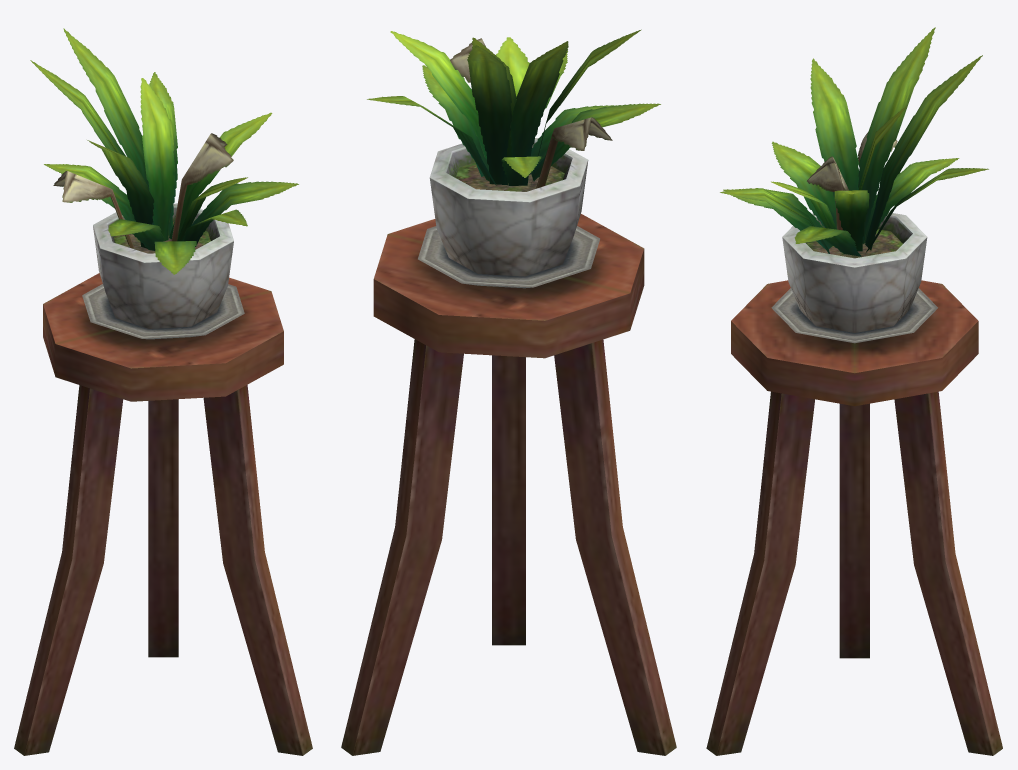
The model's file is wm_灌木盆栽06.fbx.
3 renders of one model, left to right at view 1: azimuth 30°, elevation 25°; view 2: azimuth 150°, elevation 25°; view 3: azimuth 270°, elevation 25°, orthographic. The views are drawn at different scales.
Visible parts, largest first — view 1: wm_灌木盆栽06; view 2: wm_灌木盆栽06; view 3: wm_灌木盆栽06.
Boxes of the visible parts, box(x1,y1,x2,y2) form: wm_灌木盆栽06: box(14, 28, 312, 755); wm_灌木盆栽06: box(341, 29, 676, 755); wm_灌木盆栽06: box(706, 27, 1002, 755).
Bounding box in the file's own units: 95.92 × 227 × 94.33.
